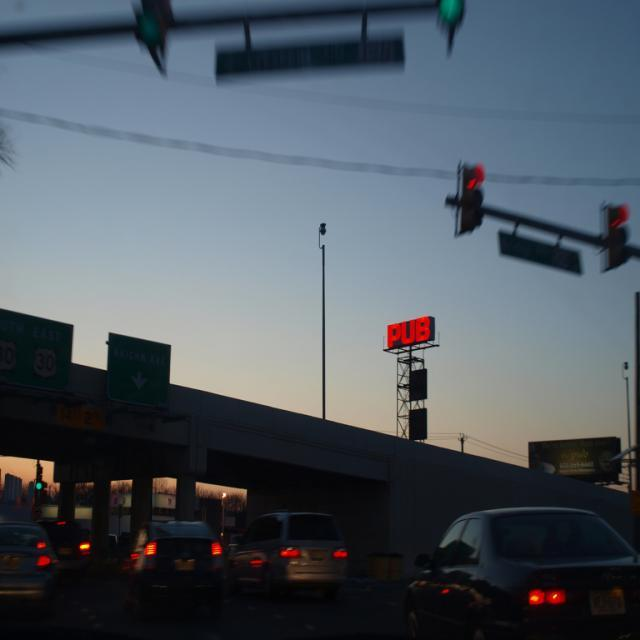traffic light: (462, 163, 487, 231)
